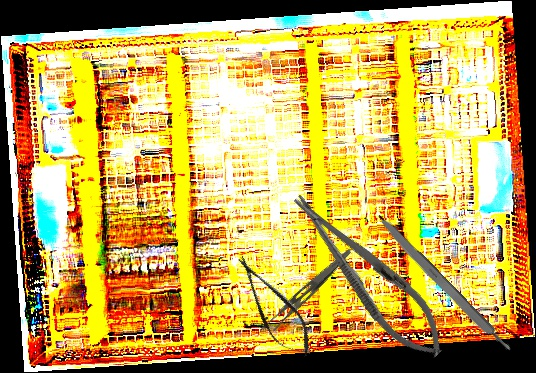Dressing Forceps: (259, 239, 353, 341)
Micro Scissor: (224, 247, 322, 367)
Needle Holder: (278, 179, 459, 371)
Scalpel Handle: (372, 211, 514, 358)
